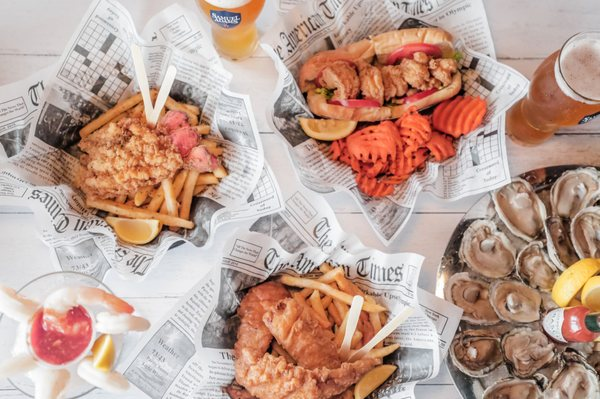pizza: (504, 32, 600, 146), (197, 0, 266, 61)
